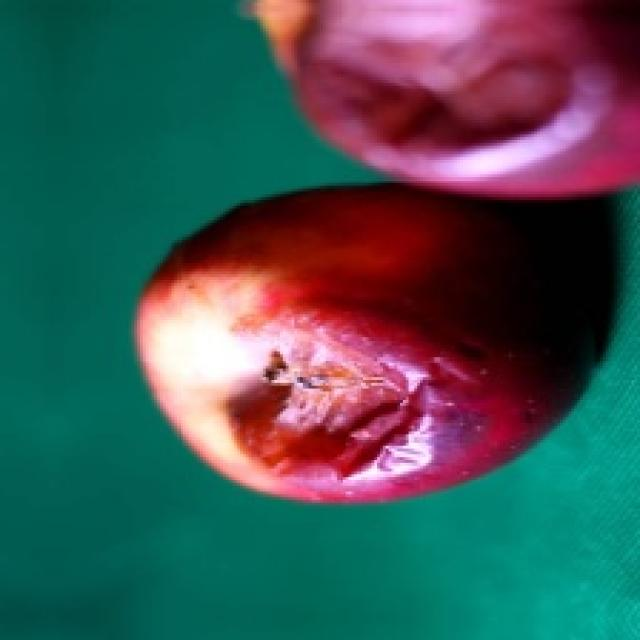rotten_apple: (140, 196, 566, 493), (261, 0, 639, 189)
